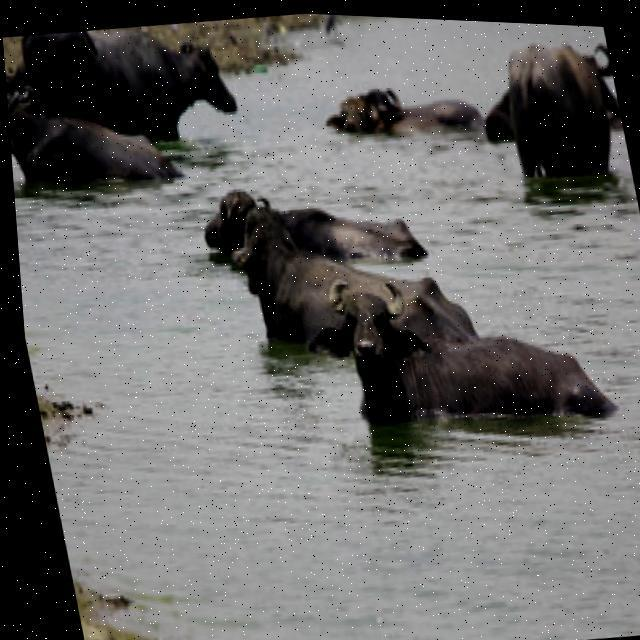Buffalo: (294, 242, 613, 453), (487, 22, 632, 186)
